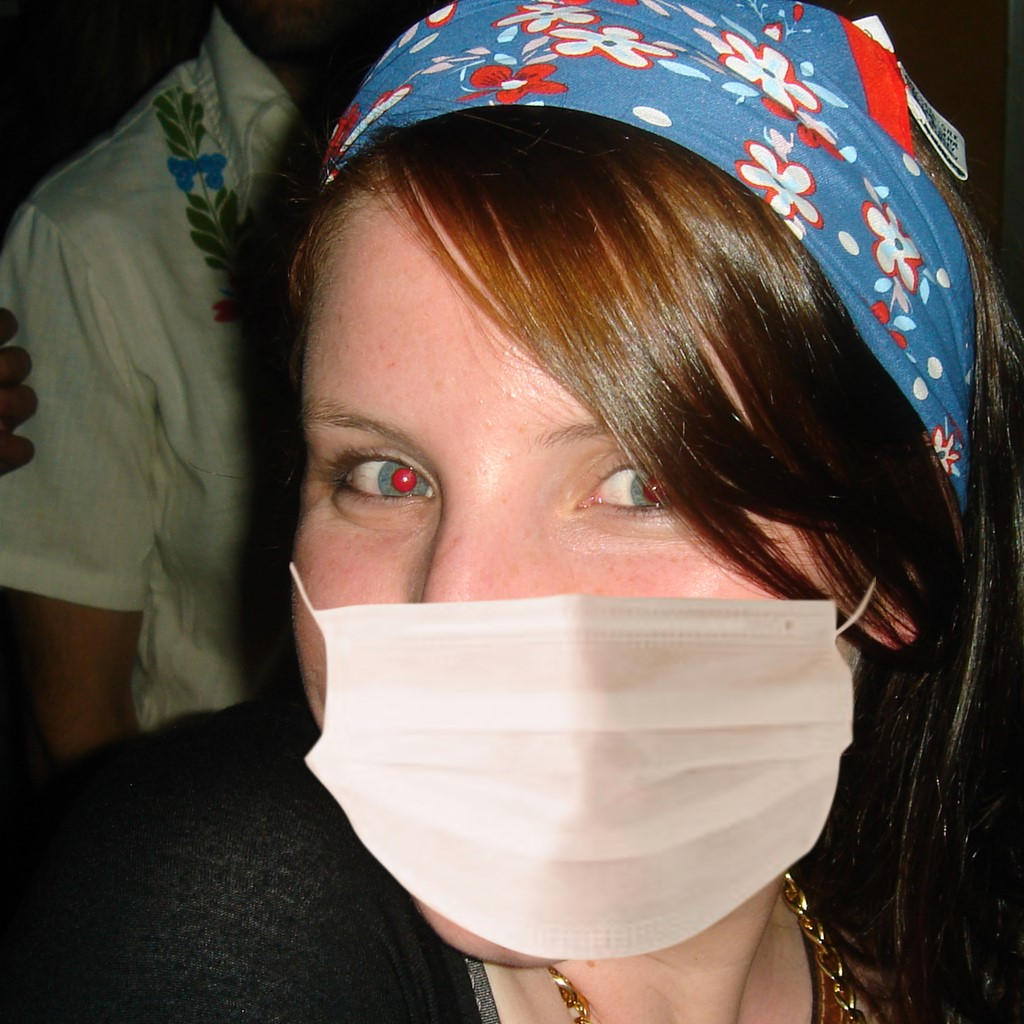con_mascara: (305, 166, 846, 903)
